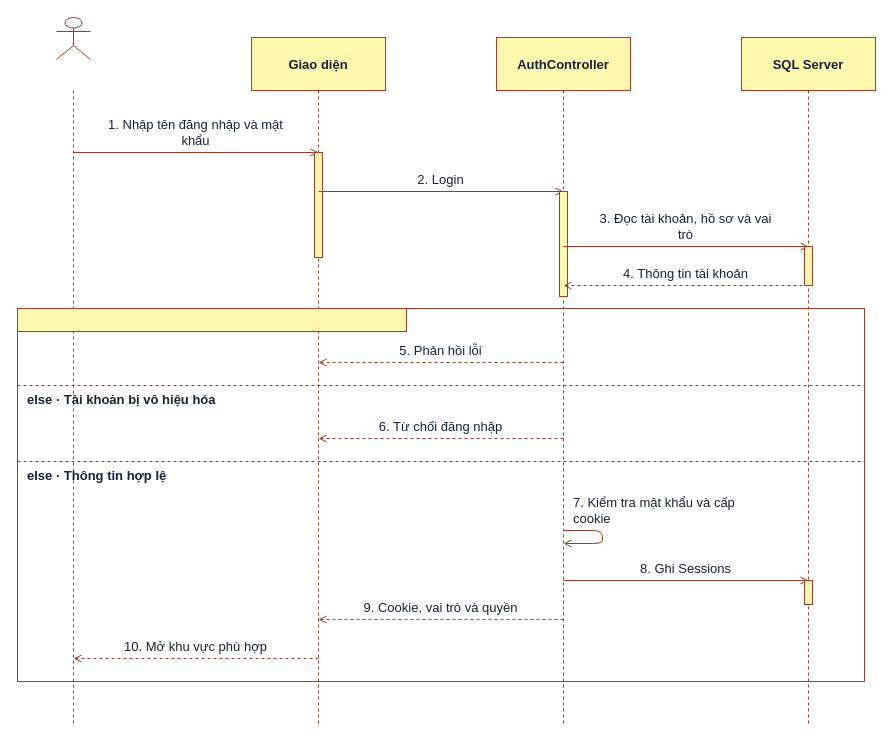
The diagram is 893 pixels wide and 743 high, and some of its shapes have lost their labels. Here are the shapes that lost their labels. From the top down, the centre of each, then its label:
At [73,38]: "Người dùng".
At [211,320]: "alt Thông tin thiếu, sai hoặc tài khoản không tồn tại".
